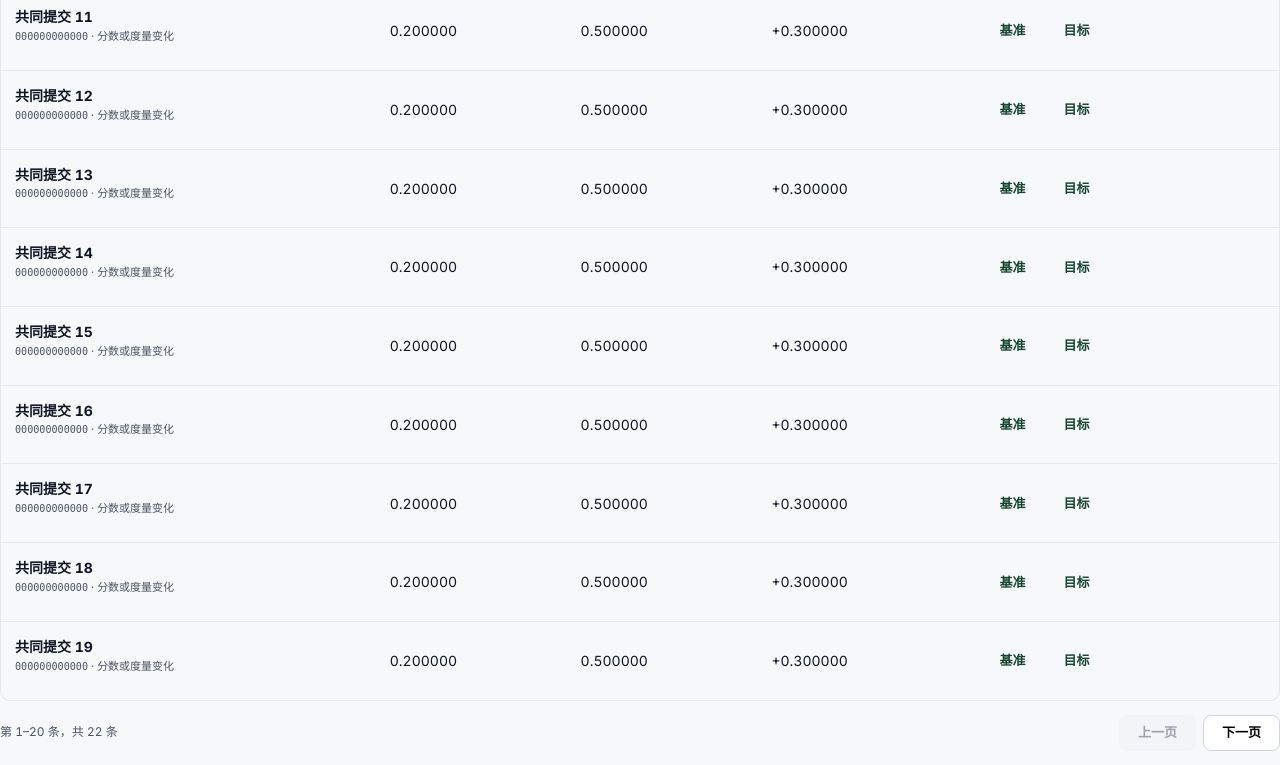
Test: keeps both pins while changing filters and pages
The image size is (1280, 765).
(page scrolled)
What coordinates should you click on to do the following:
click the button "下一页"
I would click on:
 (1242, 733)
Its box is [1203,715,1279,751].
(page scrolled)
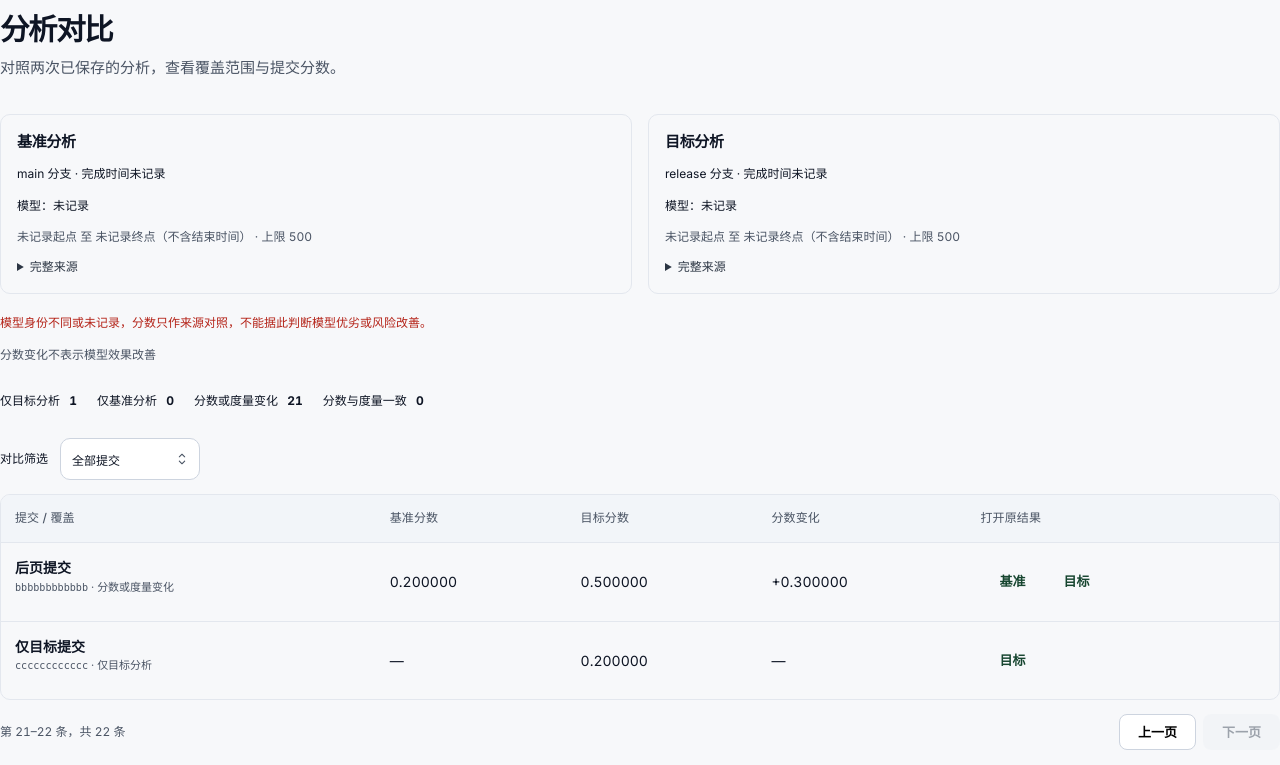
Check: the text "后页提交" is shown, box [15,559,71,576]
What coordinates should you click on to do the following:
click the dropdown labelled "对比筛选"
I would click on:
 (130, 459)
Its box is [60,438,200,480].
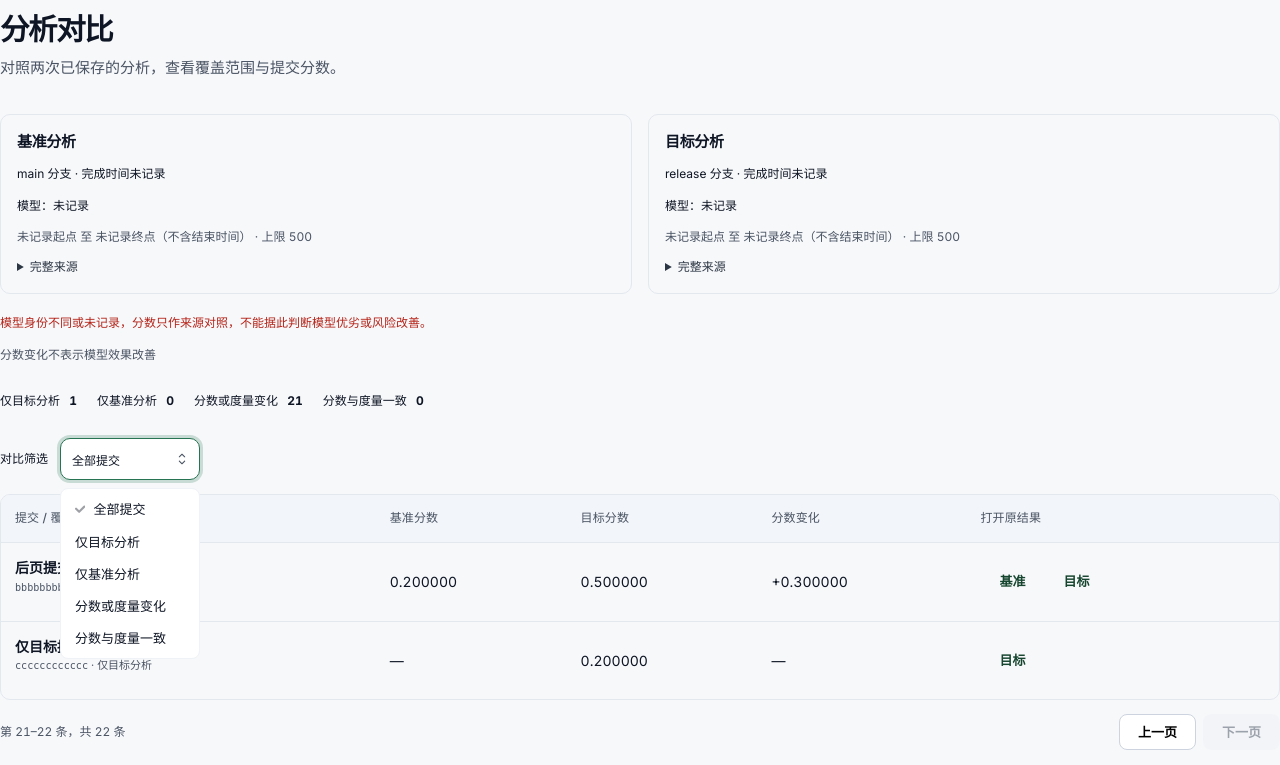
What coordinates should you click on to do the following:
click the option "分数或度量变化"
I would click on:
 (120, 606)
Its box is [75,598,166,614].
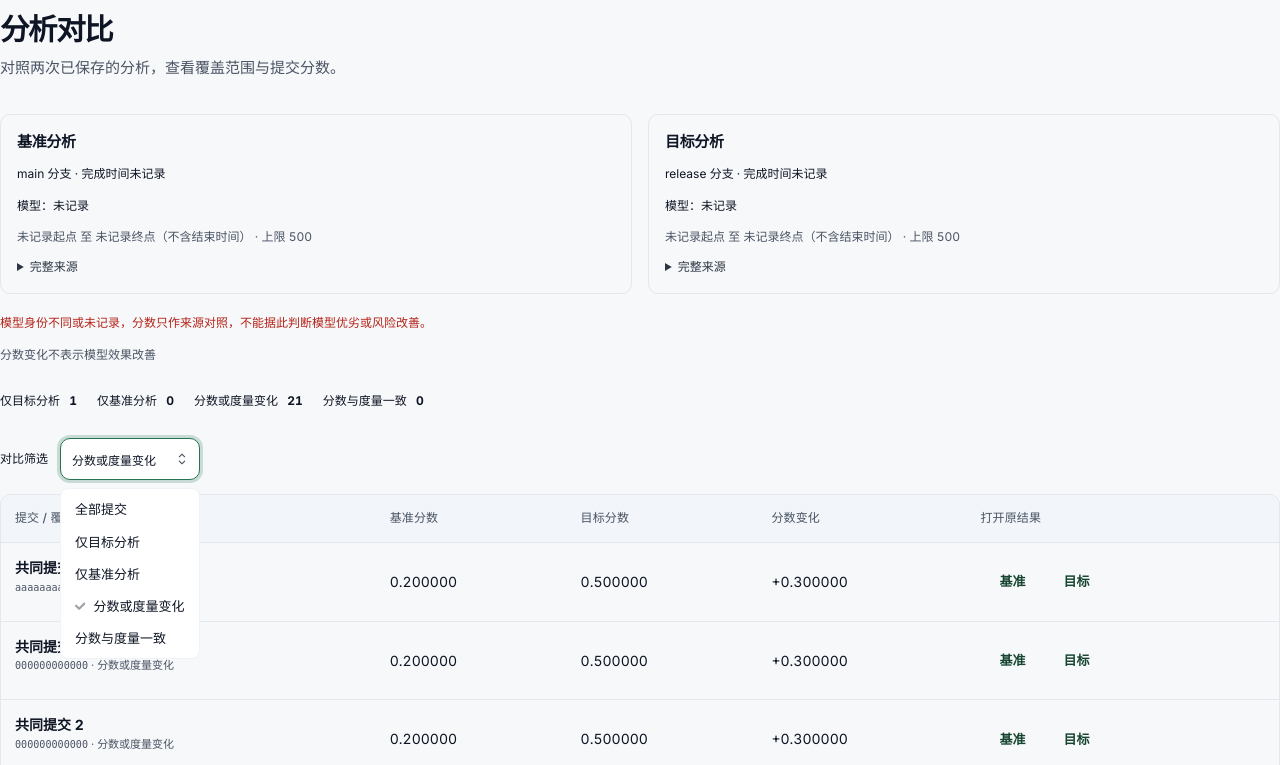
Check: the text "共同提交" is shown, box [15,559,71,576]
